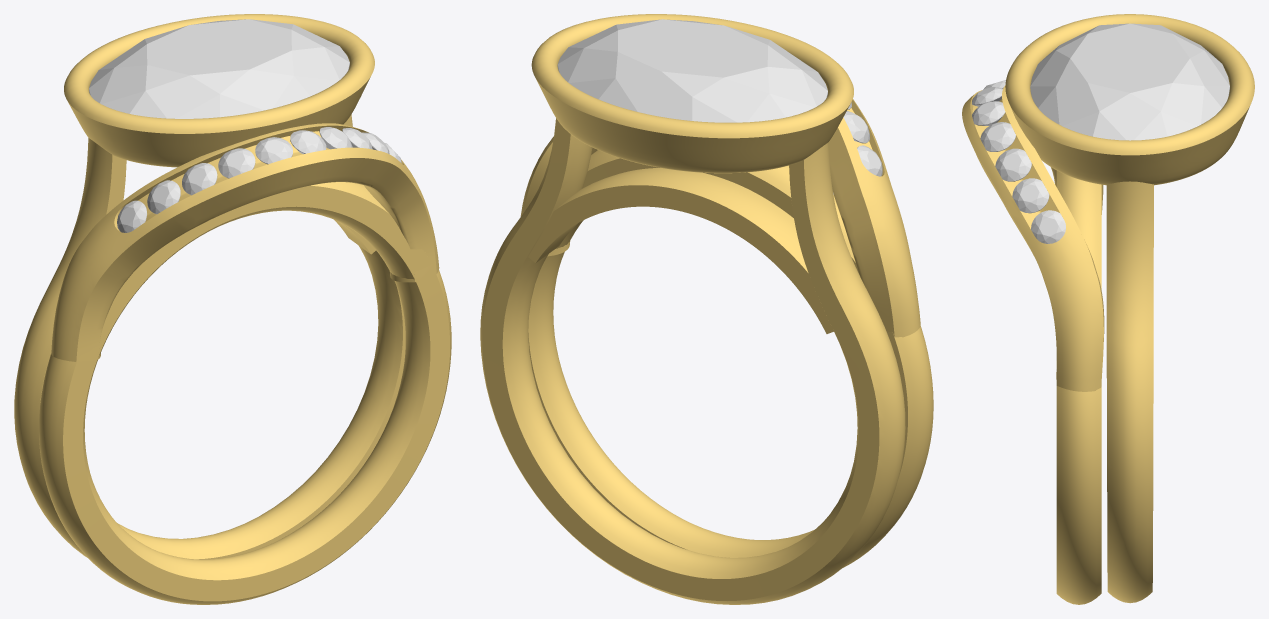
File: JessV310stoneYG_blender.glb
3 renders of one model, left to right at view 1: azimuth 30°, elevation 25°; view 2: azimuth 150°, elevation 25°; view 3: azimuth 270°, elevation 25°, orthographic. The views are drawn at different scales.
Parts seen in each view (by area): view 1: V3 Jessica YG for 3d model, V3 Jessica dia for 3d model.010, V3 Jessica dia for 3d model.003, V3 Jessica dia for 3d model.002, V3 Jessica dia for 3d model.001, V3 Jessica dia for 3d model.004, V3 Jessica dia for 3d model, V3 Jessica dia for 3d model.005; view 2: V3 Jessica YG for 3d model, V3 Jessica dia for 3d model.010; view 3: V3 Jessica YG for 3d model, V3 Jessica dia for 3d model.010, V3 Jessica dia for 3d model.008, V3 Jessica dia for 3d model.007, V3 Jessica dia for 3d model.009, V3 Jessica dia for 3d model.006, V3 Jessica dia for 3d model.005, V3 Jessica dia for 3d model.004.
Part boxes in pixels (x1=…): V3 Jessica YG for 3d model: x1=14, y1=14, x2=451, y2=604; V3 Jessica dia for 3d model.010: x1=89, y1=19, x2=349, y2=118; V3 Jessica dia for 3d model.003: x1=218, y1=148, x2=255, y2=178; V3 Jessica dia for 3d model.002: x1=182, y1=163, x2=217, y2=195; V3 Jessica dia for 3d model.001: x1=147, y1=180, x2=180, y2=214; V3 Jessica dia for 3d model.004: x1=255, y1=137, x2=292, y2=164; V3 Jessica dia for 3d model: x1=117, y1=200, x2=146, y2=232; V3 Jessica dia for 3d model.005: x1=290, y1=130, x2=326, y2=154; V3 Jessica YG for 3d model: x1=480, y1=14, x2=933, y2=604; V3 Jessica dia for 3d model.010: x1=557, y1=19, x2=827, y2=122; V3 Jessica YG for 3d model: x1=962, y1=14, x2=1254, y2=604; V3 Jessica dia for 3d model.010: x1=1030, y1=23, x2=1229, y2=140; V3 Jessica dia for 3d model.008: x1=1012, y1=178, x2=1049, y2=213; V3 Jessica dia for 3d model.007: x1=995, y1=148, x2=1031, y2=181; V3 Jessica dia for 3d model.009: x1=1031, y1=210, x2=1065, y2=243; V3 Jessica dia for 3d model.006: x1=980, y1=122, x2=1015, y2=151; V3 Jessica dia for 3d model.005: x1=972, y1=101, x2=1005, y2=125; V3 Jessica dia for 3d model.004: x1=972, y1=87, x2=1002, y2=106.
Bounding box in the file's own units: 18.58 × 23.22 × 11.74.
